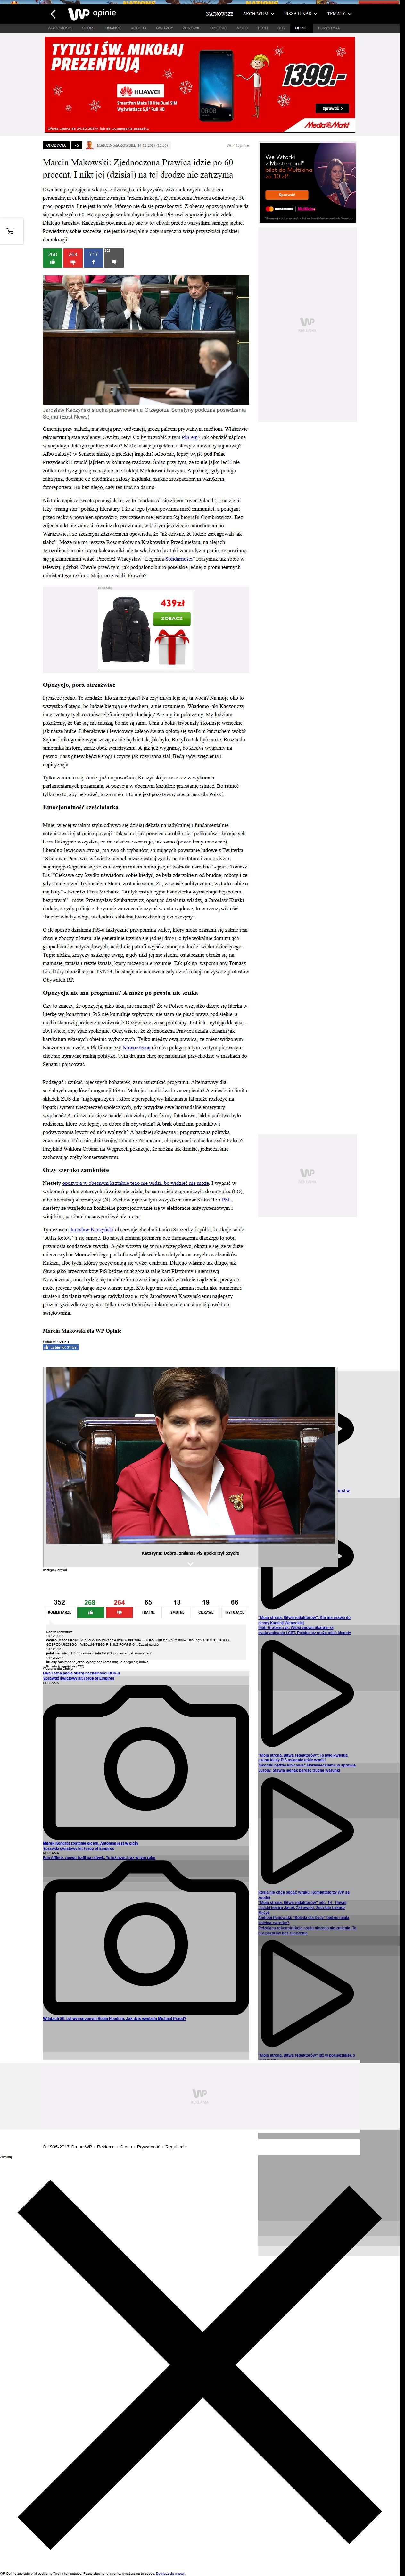title: (43, 158, 233, 181)
